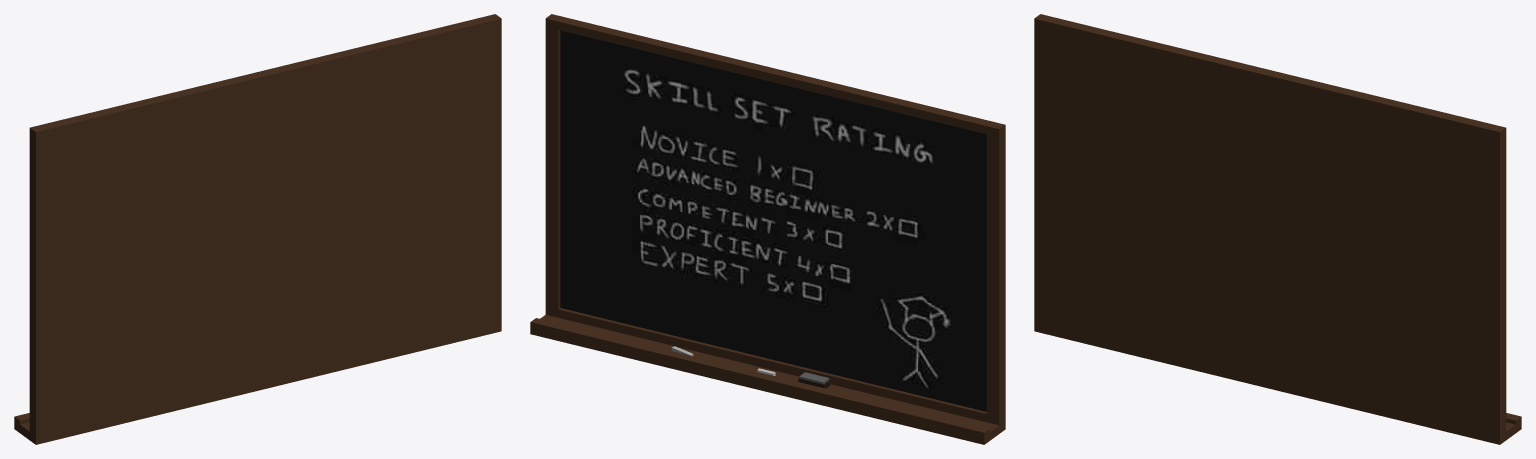
File: Blackboard.gltf
3 views of the same model, side by side, from view 1: azimuth 30°, elevation 25°; view 2: azimuth 150°, elevation 25°; view 3: azimuth 330°, elevation 25° (orthographic). The views are drawn at different scales.
Visible parts, largest first — view 1: Blackboard; view 2: Blackboard; view 3: Blackboard.
Part boxes in pixels (x1,y1,x2,y2): Blackboard: [14, 14, 501, 444]; Blackboard: [530, 14, 1005, 444]; Blackboard: [1034, 14, 1521, 444].
Bounding box in the file's own units: 2.52 × 1.62 × 0.204.
Materials: 6 (1 with a texture image).
